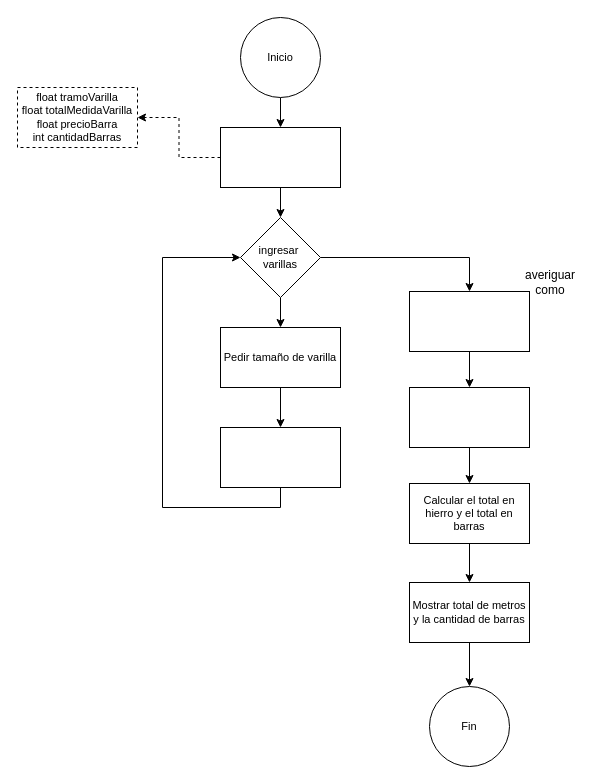
Image size: 598x784. Some labels were removed from this diagram. The centre of each missing label's shape, as x and y in pixels:
"Calcular la cantidad de barras completas" goes at (469,321).
"Declarar variables" goes at (280,157).
"Solicitar el precio de la barra" goes at (469,417).
"sumar al total de varillas" goes at (280,457).
